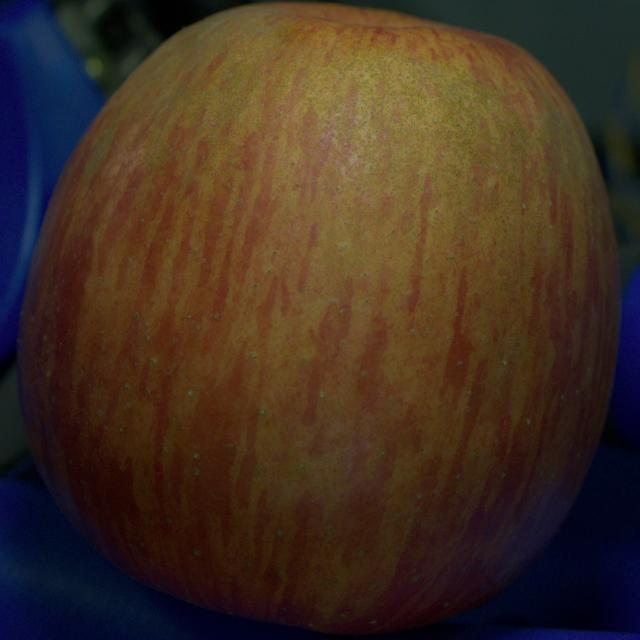apple: (17, 4, 619, 634)
